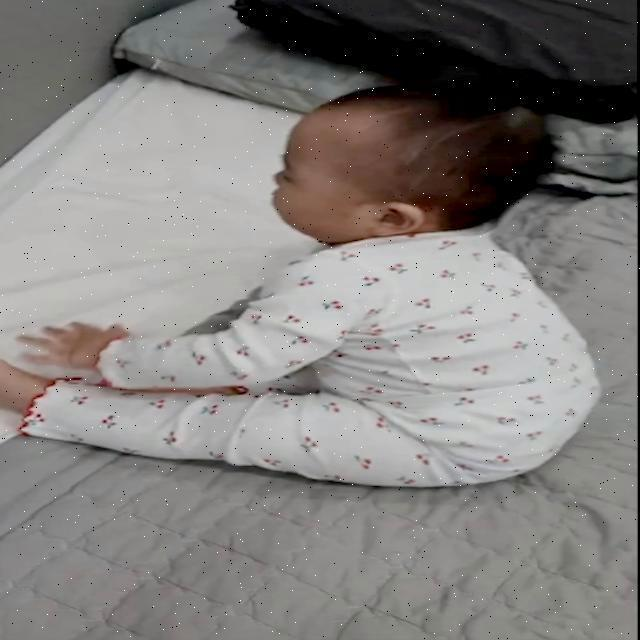child: (0, 82, 602, 490)
